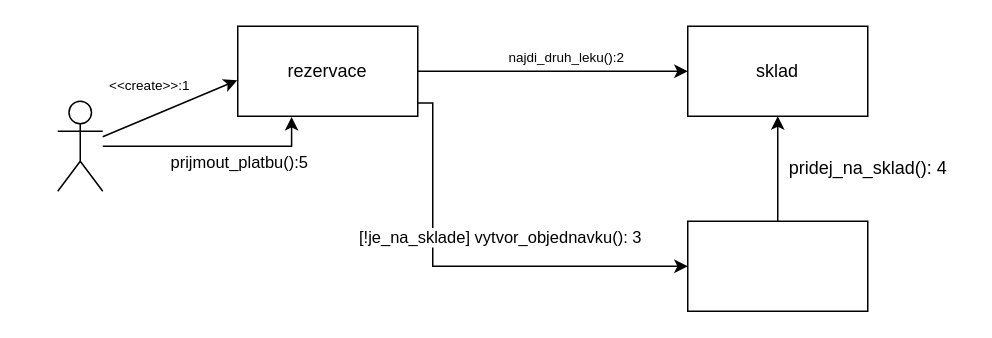
The diagram is 992 pixels wide and 338 high, and some of its shapes have lost their labels. Here are the shapes that lost their labels. From the top down, the centre of each, then its label:
the point at 79,145: Zamestnanec
the point at 777,265: dodavatel
